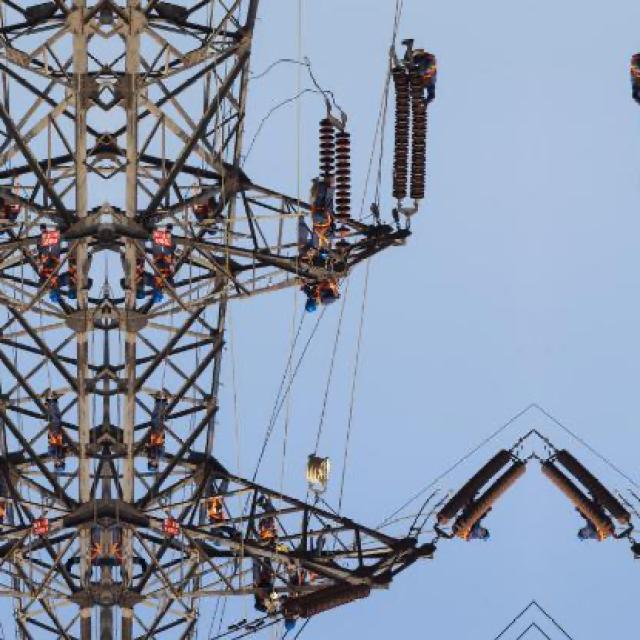con casco: (284, 285, 342, 326)
